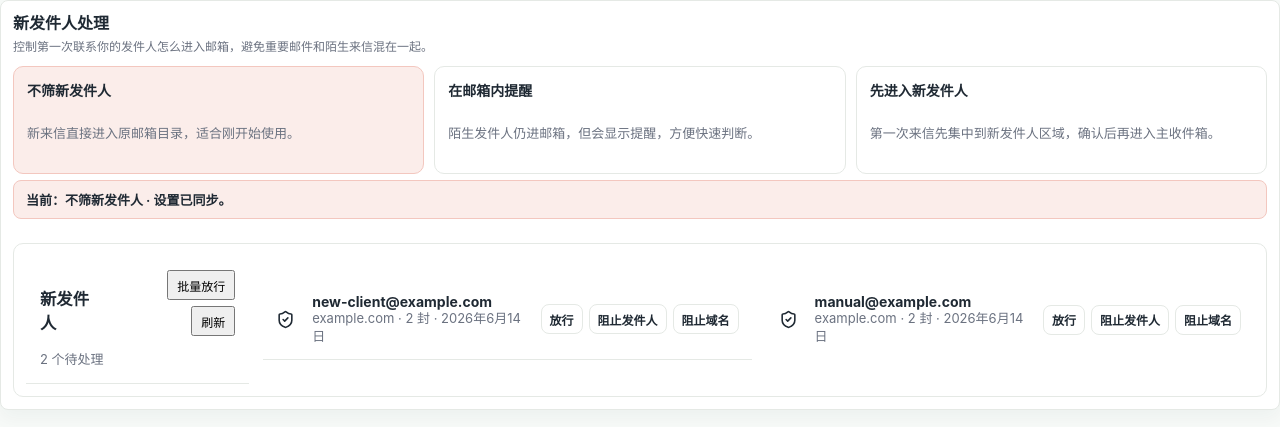
Test: GatekeeperSettingsPanel › bulk accepts only senders marked bulk available
Expected: the text "manual@example.com" is shown, [815, 293, 971, 310]
Click the button "批量放行" at (201, 285), box [167, 270, 235, 300]
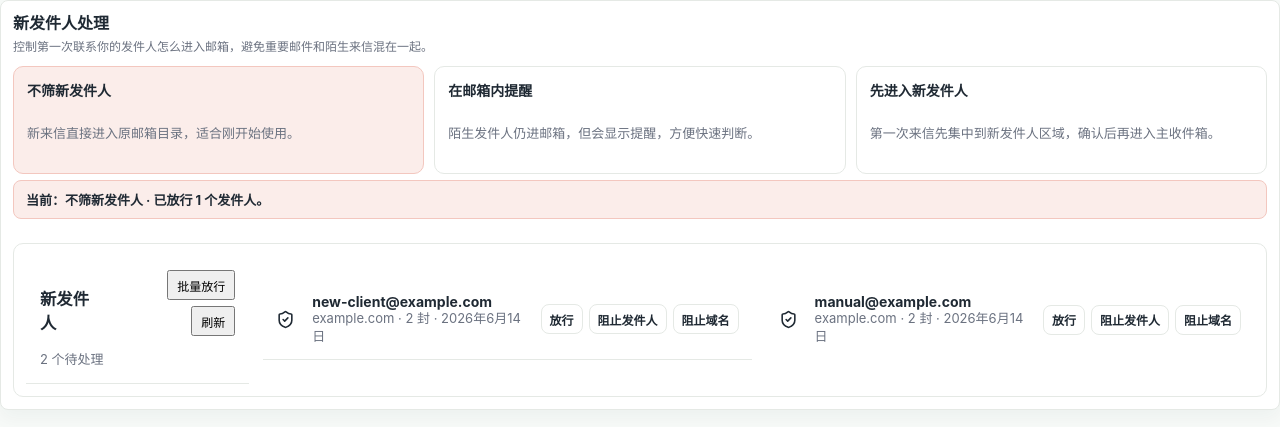
Now the text "当前：不筛新发件人 · 已放行 1 个发件人。" is shown, box [13, 180, 1267, 219]
